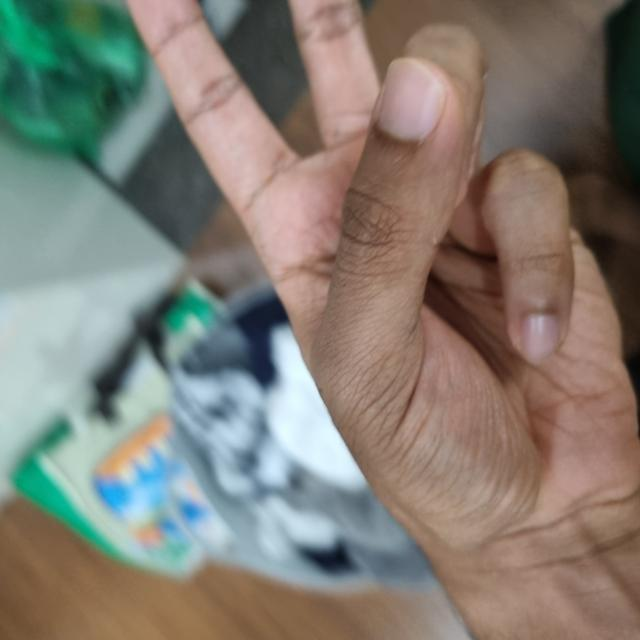Scissors: (0, 125, 640, 639)
